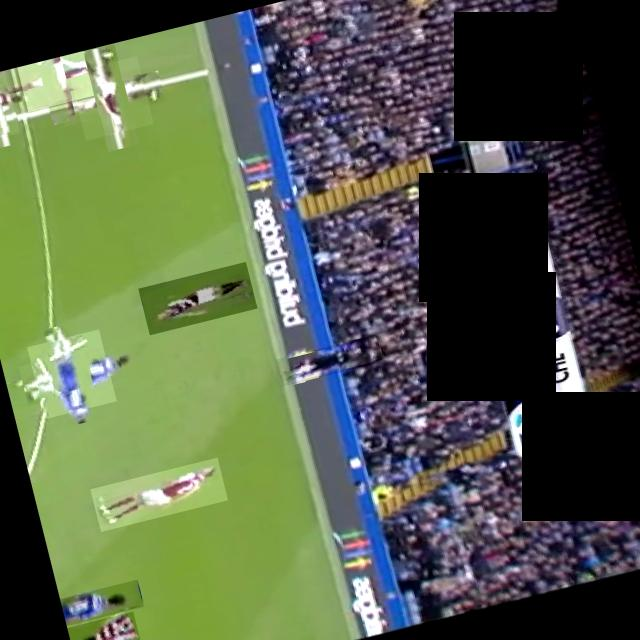ball: (474, 80, 510, 114)
referee: (274, 333, 382, 385)
soccer-player: (90, 456, 228, 530), (138, 260, 257, 334), (27, 328, 116, 418), (68, 54, 154, 140), (16, 50, 94, 110), (60, 578, 144, 624), (67, 610, 144, 640), (0, 70, 19, 147)
